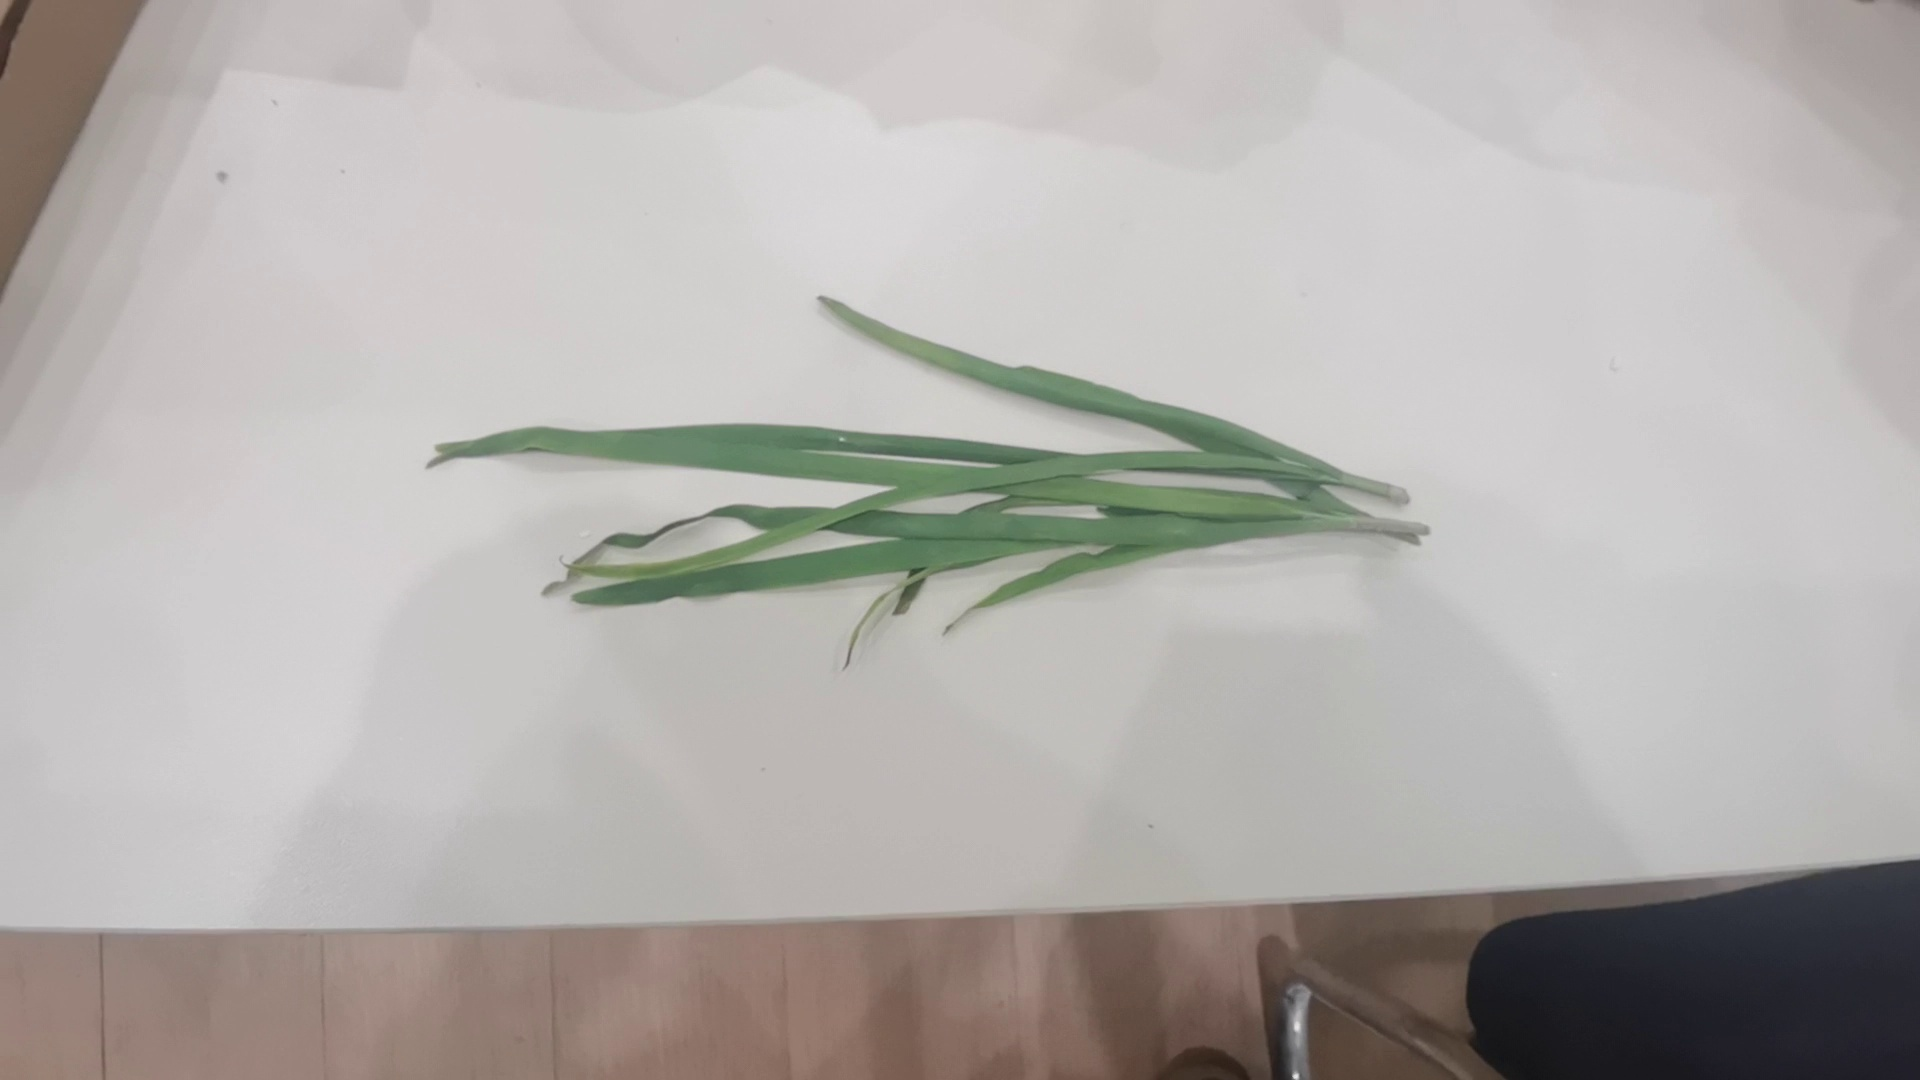chives: (425, 286, 1433, 663)
